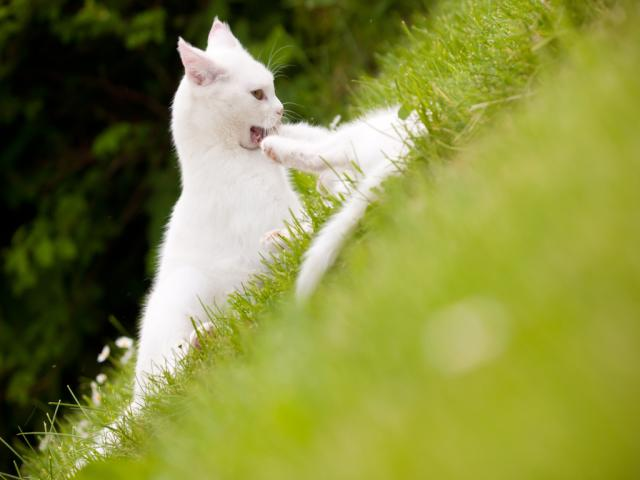Cat: (70, 13, 310, 464), (258, 102, 430, 308)
